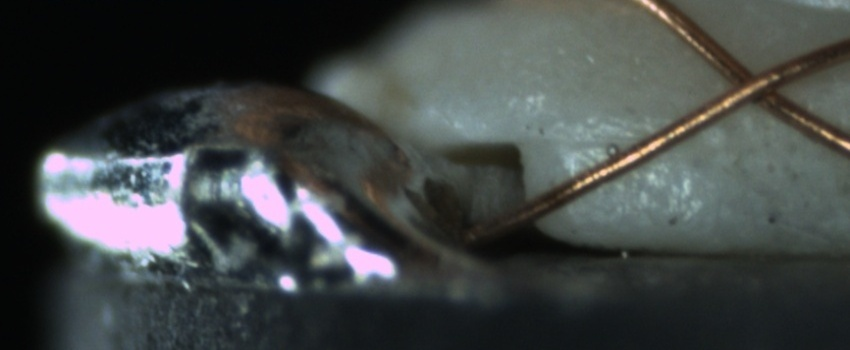CL: (708, 48, 804, 119)
DL: (547, 112, 674, 171)
